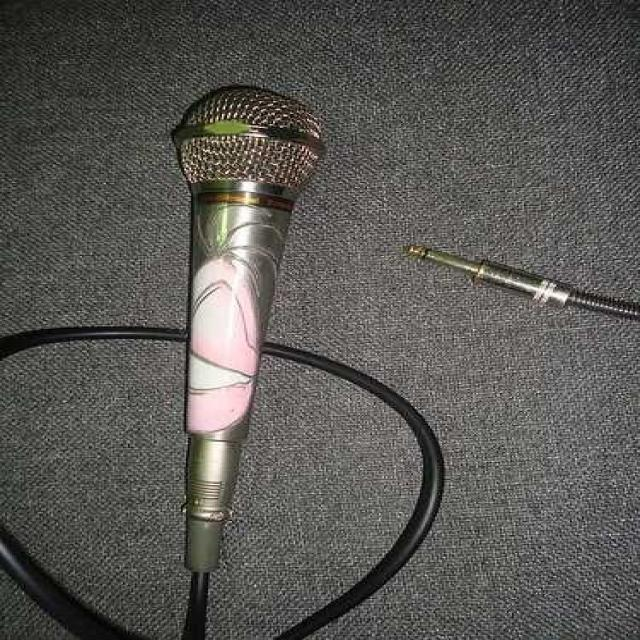microphone: (166, 85, 328, 560)
